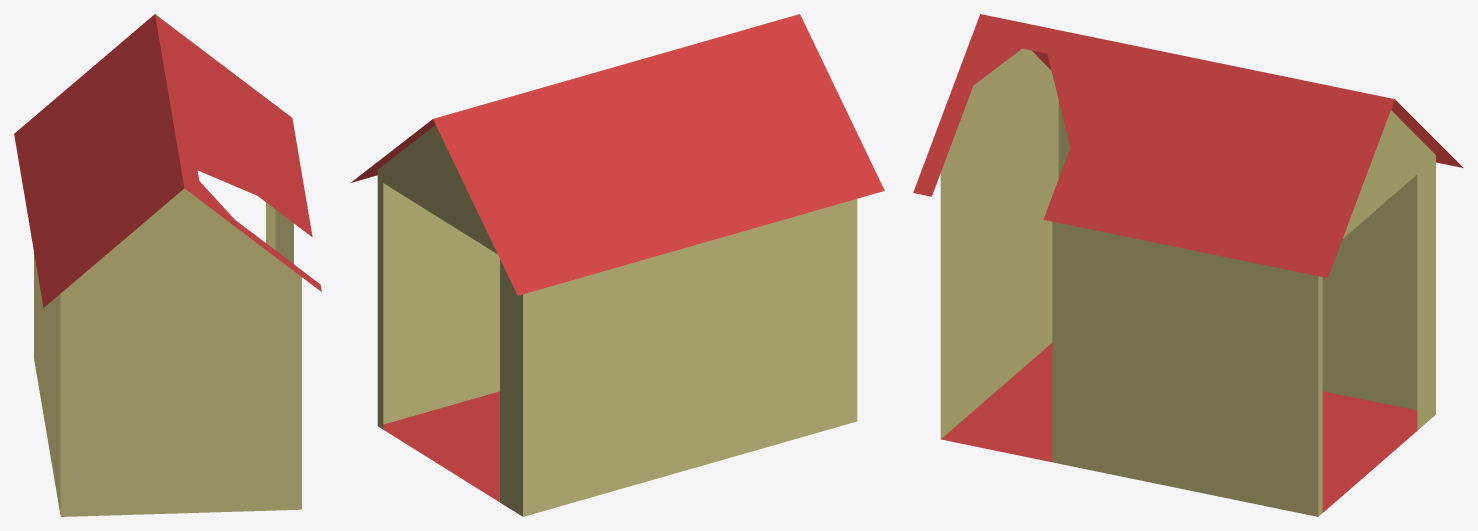
The picture shows the model from 3 angles, left to right: view 1: azimuth 30°, elevation 25°; view 2: azimuth 150°, elevation 25°; view 3: azimuth 270°, elevation 25°; orthographic projection. The views are drawn at different scales.
Bounding box in the file's own units: 17.41 × 19.92 × 14.81.
